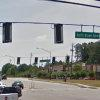Traffic light: (44, 17, 63, 48)
